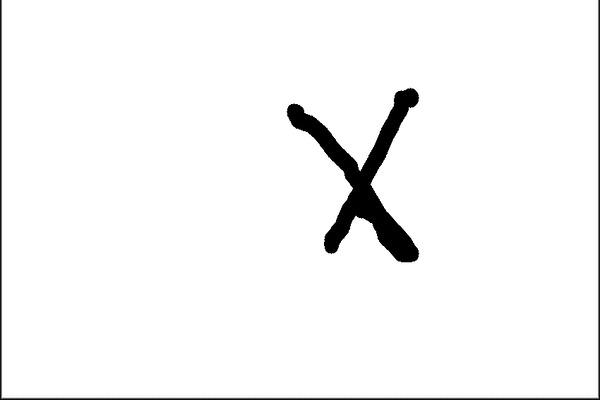X: (278, 74, 431, 272)
